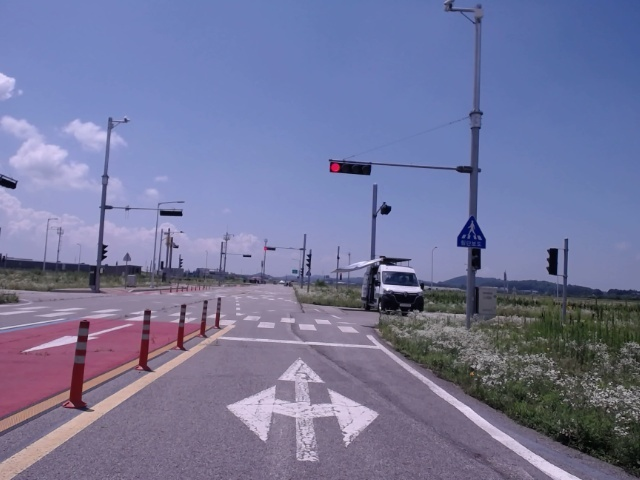red_4: (330, 162, 370, 175)
